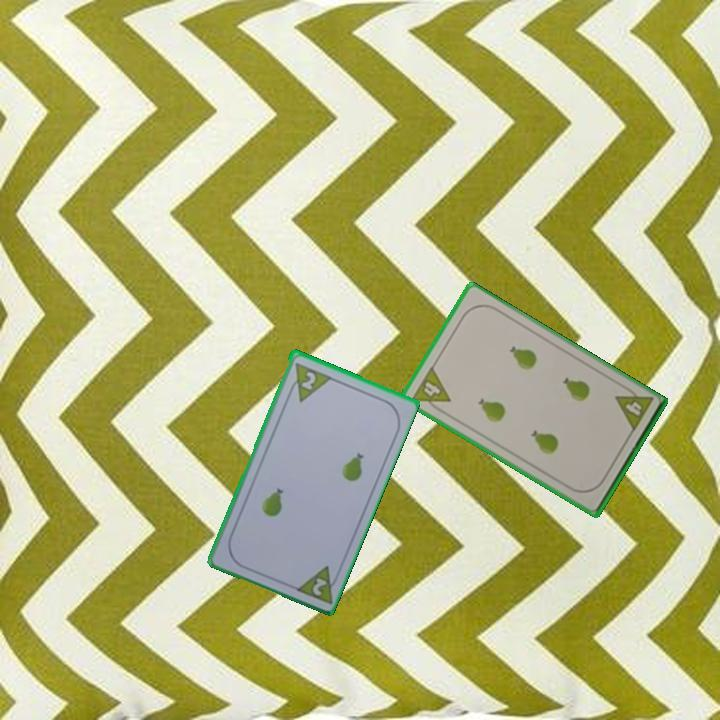2p: (297, 367, 319, 393), (308, 573, 329, 598)
4p: (408, 363, 453, 416), (612, 382, 656, 435)
